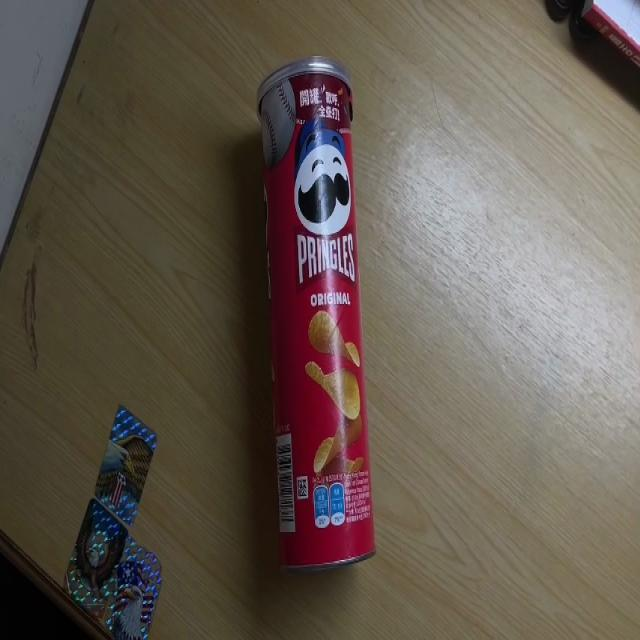Pringles: (254, 58, 379, 572)
